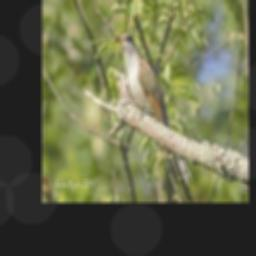Cuckoo: (115, 33, 191, 188)
